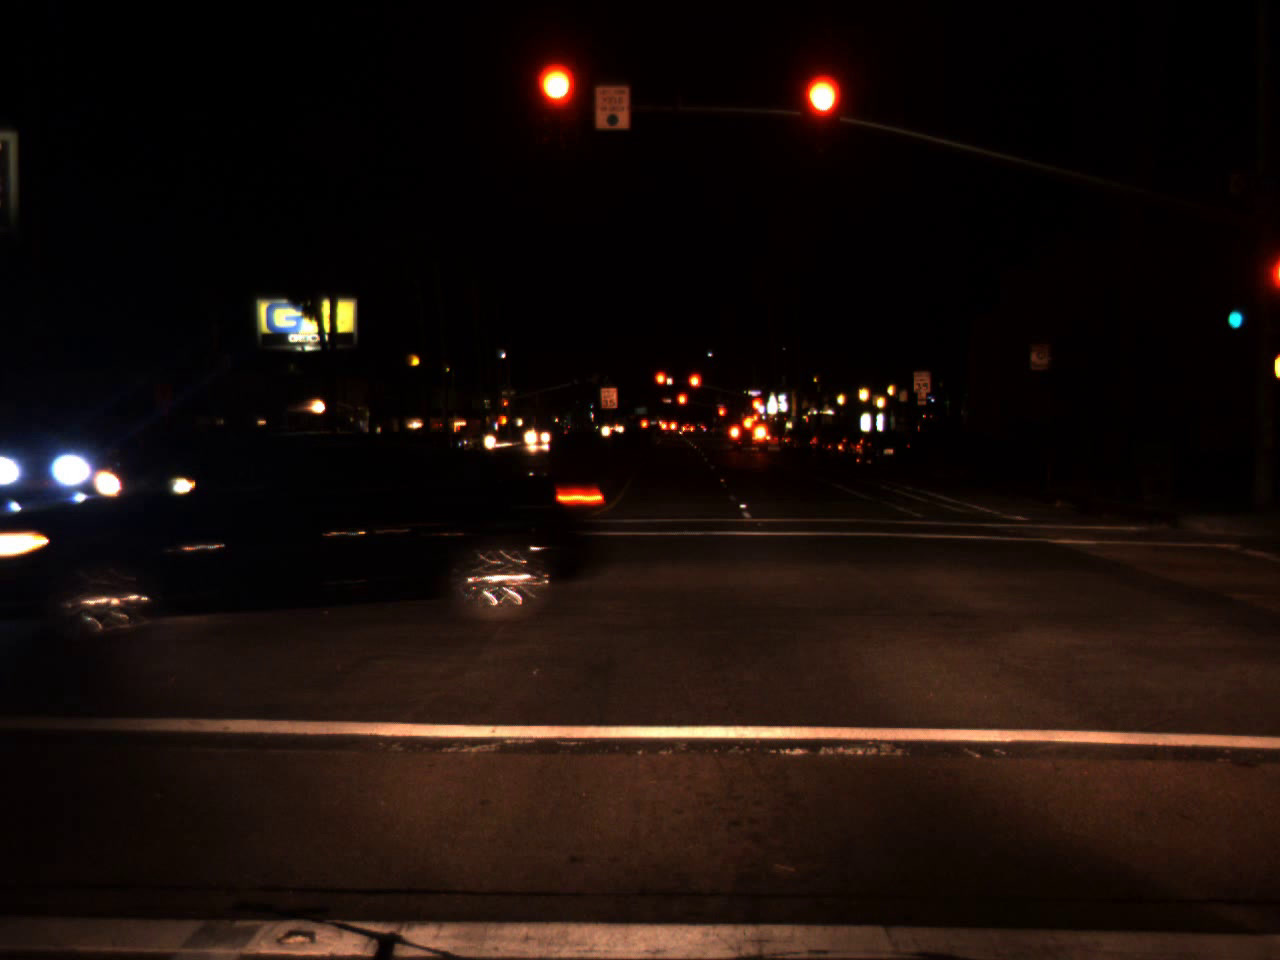stop: (537, 65, 577, 143), (802, 76, 842, 154), (653, 369, 671, 401), (686, 371, 702, 403), (675, 391, 688, 418), (749, 396, 764, 414), (717, 406, 727, 427), (502, 400, 508, 410)
